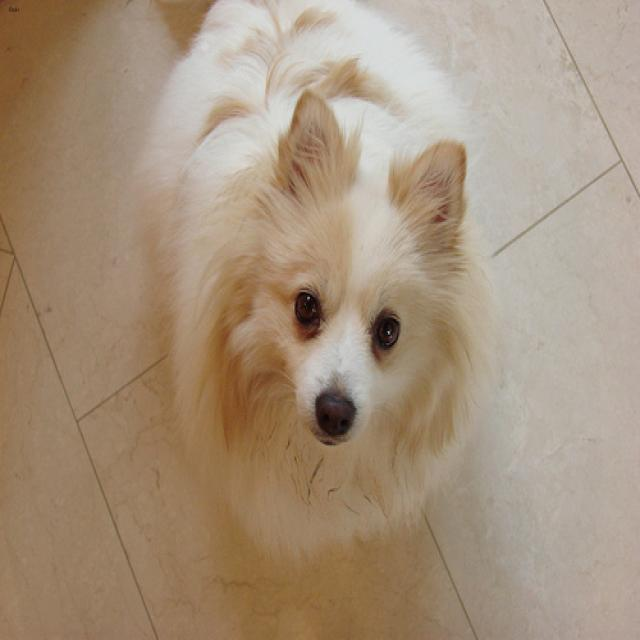dog-pomeranian: (124, 2, 515, 572)
